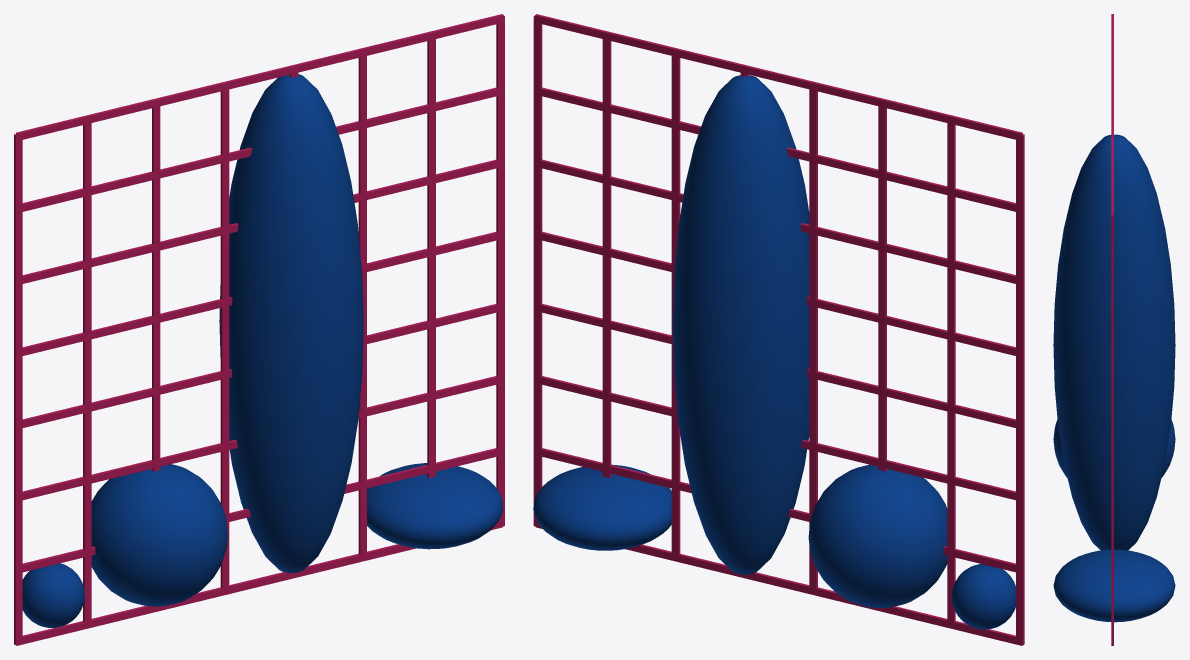
Rendered from simple_001_Scaling_00.dae.
3 views of the same model, side by side, from view 1: azimuth 30°, elevation 25°; view 2: azimuth 150°, elevation 25°; view 3: azimuth 270°, elevation 25° (orthographic). The views are drawn at different scales.
Parts seen in each view (by area): view 1: Sphere03, Sphere02, Sphere04, Box16, Box08, Box01, Box04, Box02, Box07, Box06, Box09, Box15 (+7 smaller); view 2: Sphere03, Sphere02, Sphere04, Box01, Box16, Box08, Box02, Box04, Box07, Box09, Box06, Sphere01 (+7 smaller); view 3: Sphere03, Sphere04, Box08, Sphere02, Box16.
Part boxes in pixels (x1,y1,x2,y2): Sphere03: [219, 74, 363, 572]; Sphere02: [91, 464, 227, 606]; Sphere04: [367, 463, 503, 549]; Box16: [16, 14, 503, 140]; Box08: [496, 16, 504, 527]; Box01: [14, 134, 22, 645]; Box04: [220, 89, 229, 588]; Box02: [83, 123, 91, 621]; Box07: [427, 33, 435, 477]; Box06: [358, 50, 366, 561]; Box09: [17, 87, 497, 213]; Box15: [16, 522, 502, 645]; Sphere03: [672, 75, 809, 574]; Sphere02: [808, 464, 947, 608]; Sphere04: [533, 464, 671, 550]; Box01: [1016, 134, 1024, 645]; Box16: [535, 14, 1022, 139]; Box08: [533, 16, 542, 526]; Box02: [947, 117, 955, 628]; Box04: [809, 83, 817, 594]; Box07: [602, 39, 611, 477]; Box09: [535, 87, 1015, 211]; Box06: [671, 56, 680, 554]; Sphere01: [951, 564, 1015, 629]; Sphere03: [1053, 134, 1175, 550]; Sphere04: [1053, 549, 1175, 622]; Box08: [1111, 215, 1113, 645]; Sphere02: [1053, 419, 1175, 477]; Box16: [1111, 14, 1113, 215].
Bounding box in the file's own units: 559 × 143 × 559.
